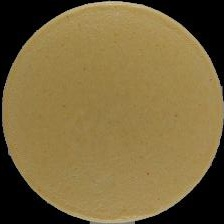53746-514: (0, 0, 224, 224)
